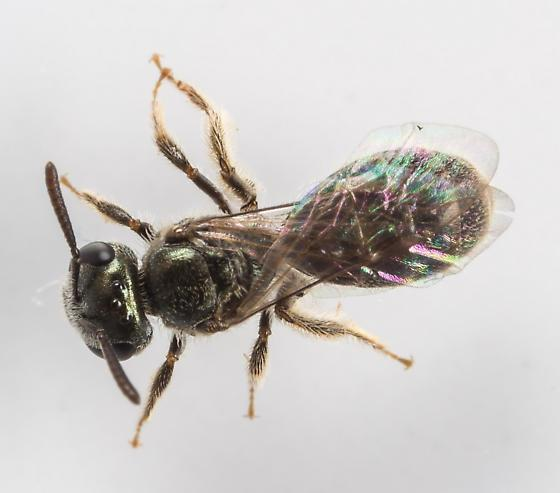Braunsapis: (34, 54, 516, 434)
